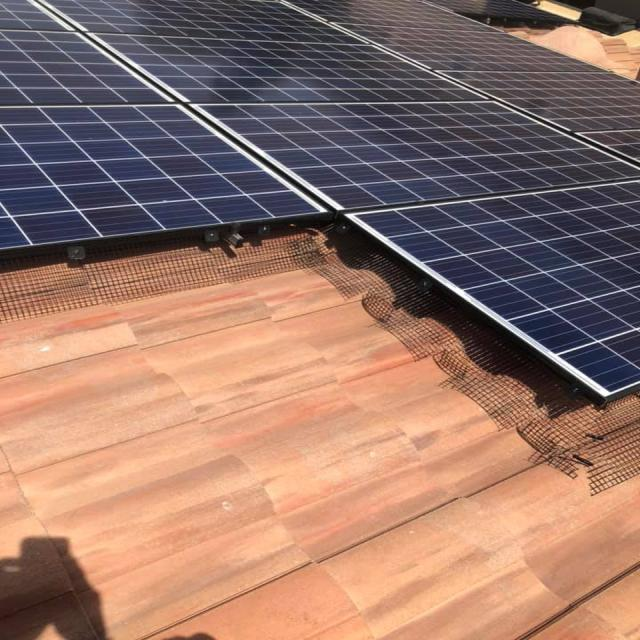clean-solar-panel: (2, 0, 638, 399)
